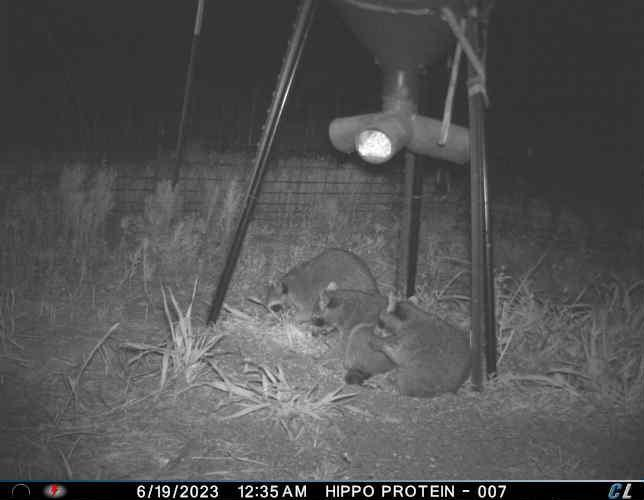Raccoon: (369, 290, 476, 401), (266, 248, 381, 330), (310, 282, 397, 386)
